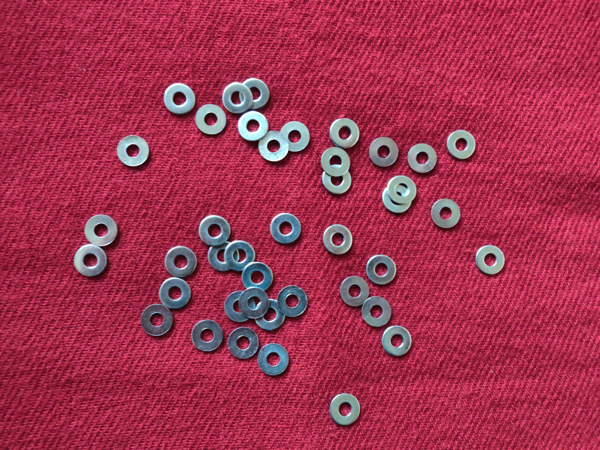circles: (328, 393, 363, 427), (360, 296, 395, 330), (380, 325, 415, 359), (84, 214, 119, 247), (194, 103, 229, 136), (237, 110, 272, 143), (206, 240, 241, 273), (268, 212, 303, 245), (326, 115, 361, 148), (473, 244, 508, 277), (337, 276, 372, 309), (162, 81, 196, 114), (198, 214, 232, 247), (364, 253, 398, 286), (252, 299, 286, 332), (158, 278, 193, 310), (140, 304, 175, 336), (220, 82, 255, 114), (237, 76, 272, 108), (223, 239, 258, 271), (444, 129, 479, 161), (380, 183, 415, 215), (428, 197, 463, 229), (320, 224, 355, 256), (241, 262, 276, 294), (274, 285, 309, 317), (236, 288, 271, 320), (191, 320, 226, 352), (256, 344, 291, 376), (116, 135, 150, 167), (74, 246, 108, 278), (164, 246, 198, 278), (256, 130, 290, 162), (277, 120, 311, 152), (319, 146, 353, 178), (321, 164, 355, 196), (366, 136, 400, 168), (406, 143, 440, 175), (385, 174, 419, 206), (223, 290, 257, 322), (226, 327, 260, 359)
